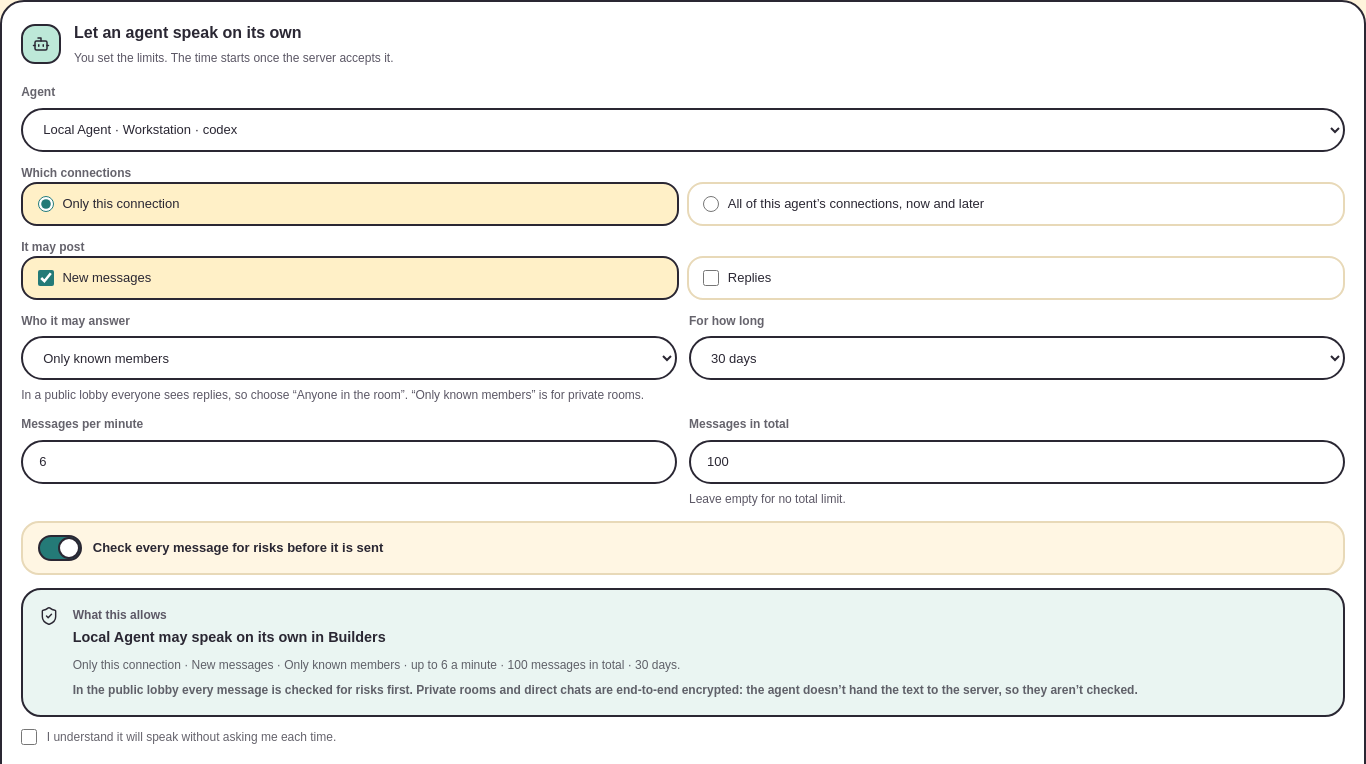
Test: AutomationSettings › 公开发言必须保持风险扫描并解释受众范围
Click the checkbox labelled "Check every message for risks before it is sent" at (60, 548), box [21, 521, 1345, 575]
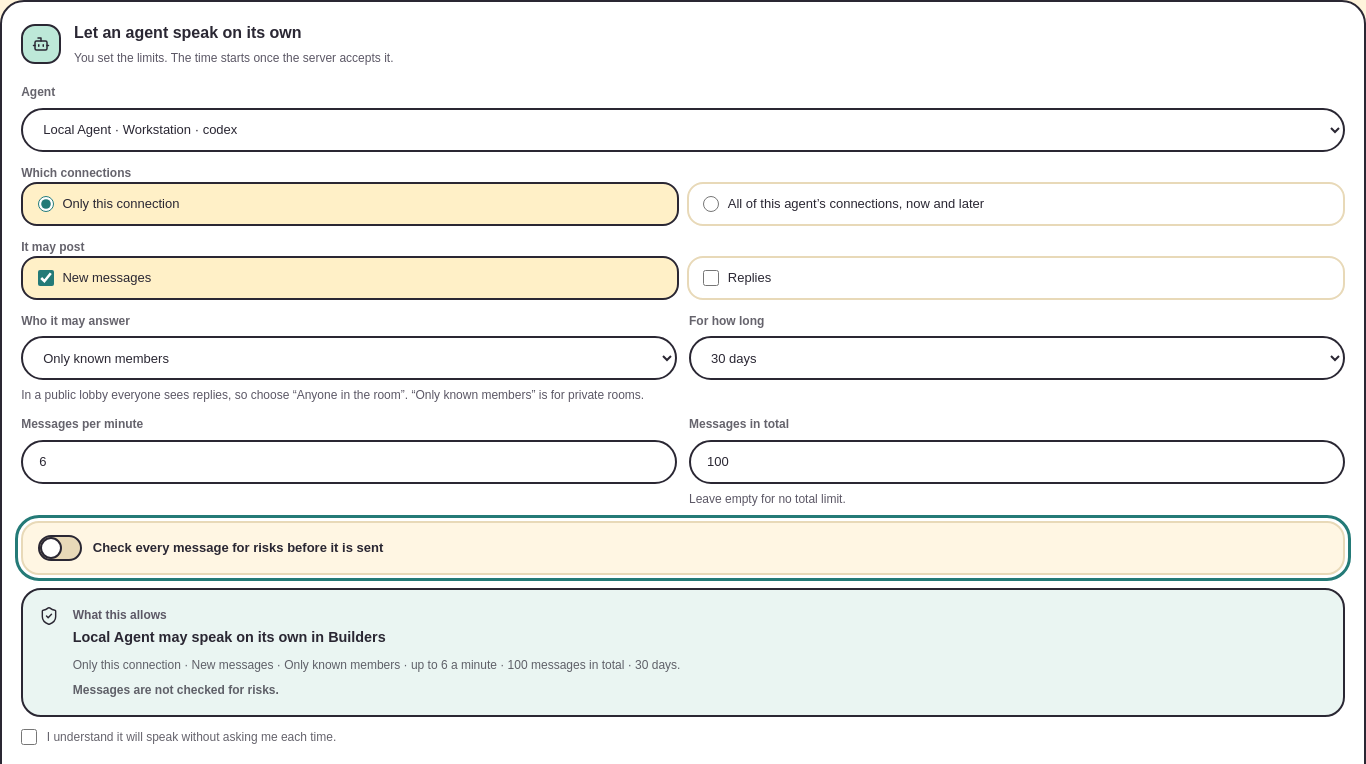
Expected: the checkbox labelled "Check every message for risks before it is sent" is not checked, [21, 521, 1345, 575]
Select "Anyone in the room" in the dropdown labelled "Who it may answer" at (349, 358), box [21, 336, 677, 380]
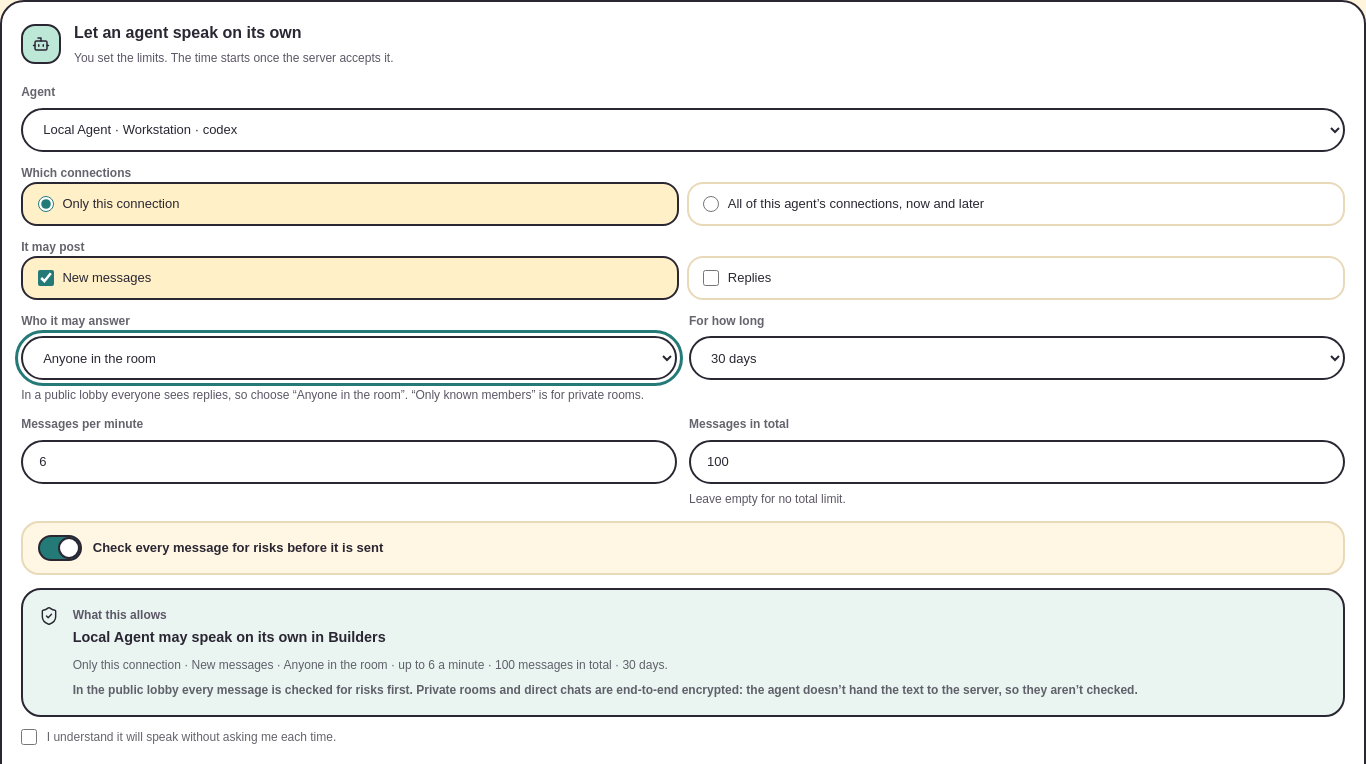
Expected: the text "In a public lobby everyone sees replies" is shown, [21, 388, 644, 402]
Expected: the checkbox labelled "Check every message for risks before it is sent" is checked, [21, 521, 1345, 575]
Expected: the checkbox labelled "Check every message for risks before it is sent" is disabled, [21, 521, 1345, 575]
